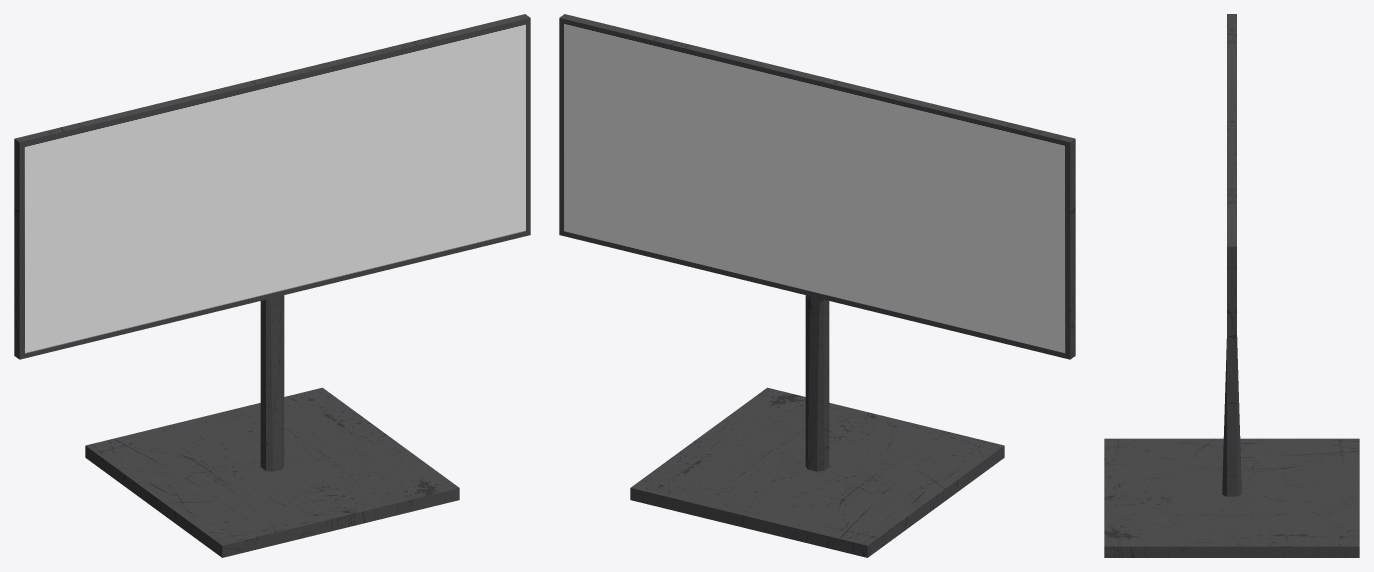
The model's file is workplaceopenner.fbx.
3 views of the same model, side by side, from view 1: azimuth 30°, elevation 25°; view 2: azimuth 150°, elevation 25°; view 3: azimuth 270°, elevation 25° (orthographic). The views are drawn at different scales.
Visible parts, largest first — view 1: workplaceopenner; view 2: workplaceopenner; view 3: workplaceopenner.
Boxes of the visible parts, bbox=[...] form: workplaceopenner: bbox=[14, 14, 530, 557]; workplaceopenner: bbox=[559, 14, 1075, 557]; workplaceopenner: bbox=[1104, 14, 1359, 557].
Size of the model in its own units: 215 by 161 by 100.
Materials: 1 (1 with a texture image).
